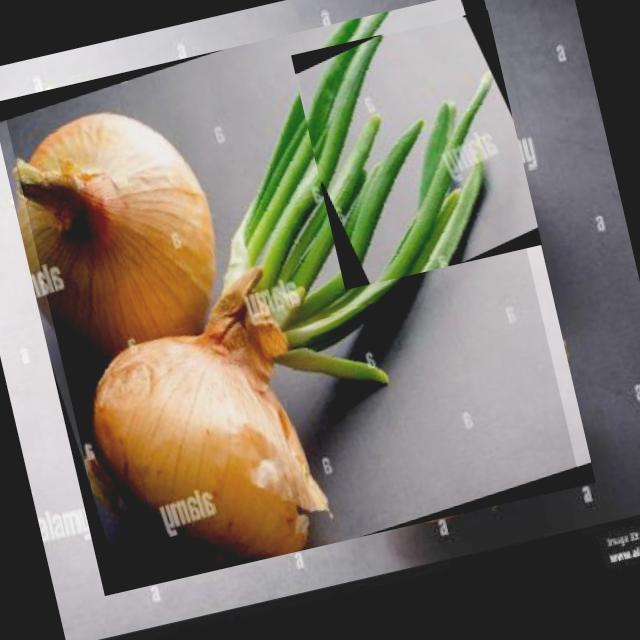healthy: (311, 30, 524, 274)
sprouting: (85, 10, 485, 571)
